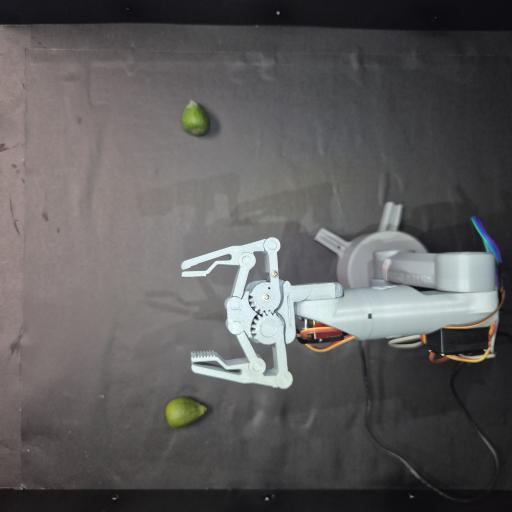higo: (166, 397, 206, 428), (181, 100, 209, 136)
